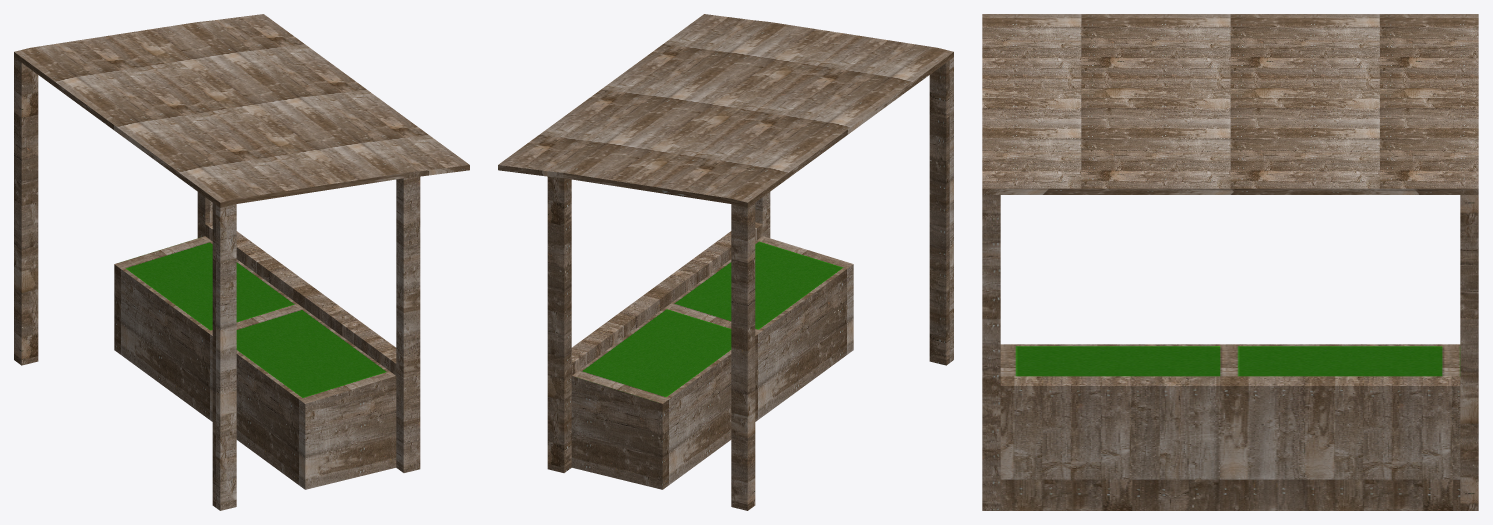
Rendered from stand.obj.
3 views of the same model, side by side, from view 1: azimuth 30°, elevation 25°; view 2: azimuth 150°, elevation 25°; view 3: azimuth 270°, elevation 25° (orthographic). The views are drawn at different scales.
Visible parts, largest first — view 1: Cube; view 2: Cube; view 3: Cube.
Boxes of the visible parts, bbox=[...] form: Cube: bbox=[14, 14, 469, 510]; Cube: bbox=[498, 14, 953, 510]; Cube: bbox=[982, 14, 1478, 510].
Size of the model in its own units: 3.02 by 3.64 by 4.32.
